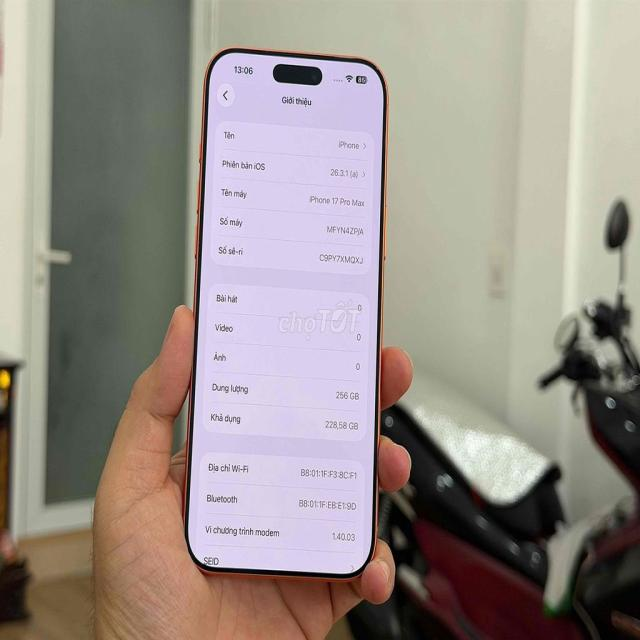gen_17: (181, 43, 392, 584)
